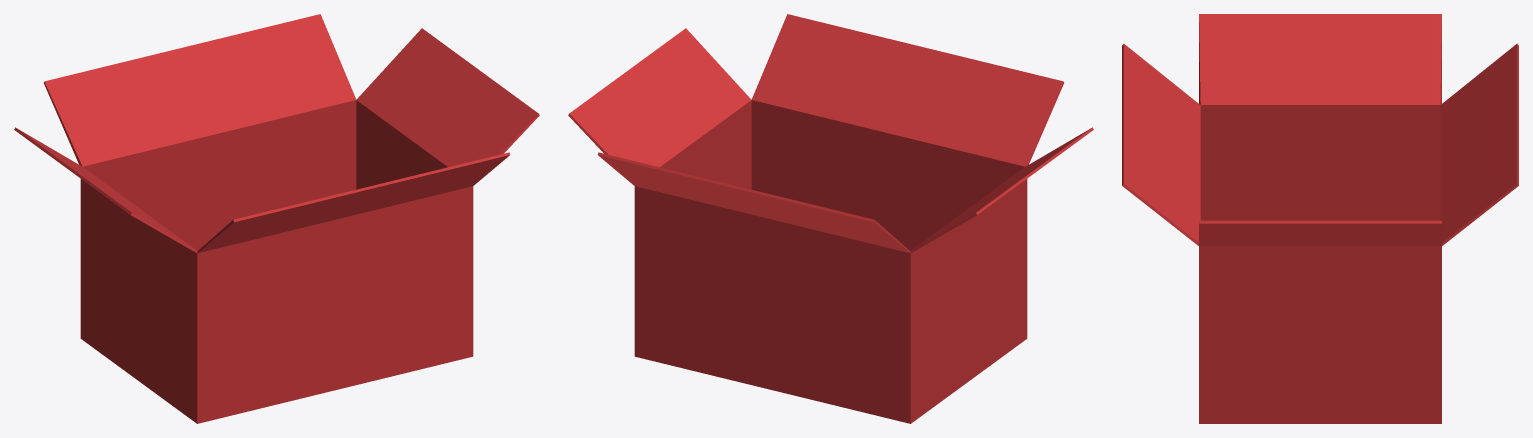
The model's file is open_red_box_0402.fbx.
The picture shows the model from 3 angles, left to right: view 1: azimuth 30°, elevation 25°; view 2: azimuth 150°, elevation 25°; view 3: azimuth 270°, elevation 25°; orthographic projection. The views are drawn at different scales.
Visible parts, largest first — view 1: Box; view 2: Box; view 3: Box.
Part boxes in pixels (<box>): Box: <box>14,14,539,423</box>; Box: <box>568,14,1093,423</box>; Box: <box>1122,14,1518,423</box>.
Size of the model in its own units: 124 by 66.58 by 99.65.
Materials: 1 (1 with a texture image).
